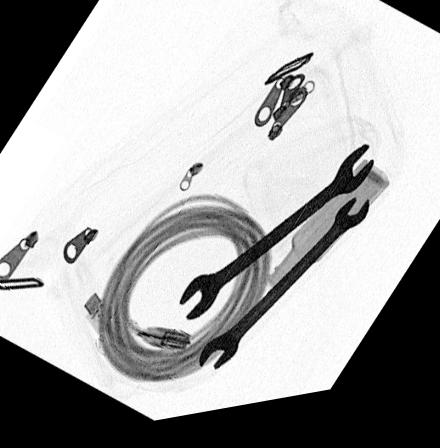Wrench: (178, 156, 373, 327), (197, 210, 367, 377)
